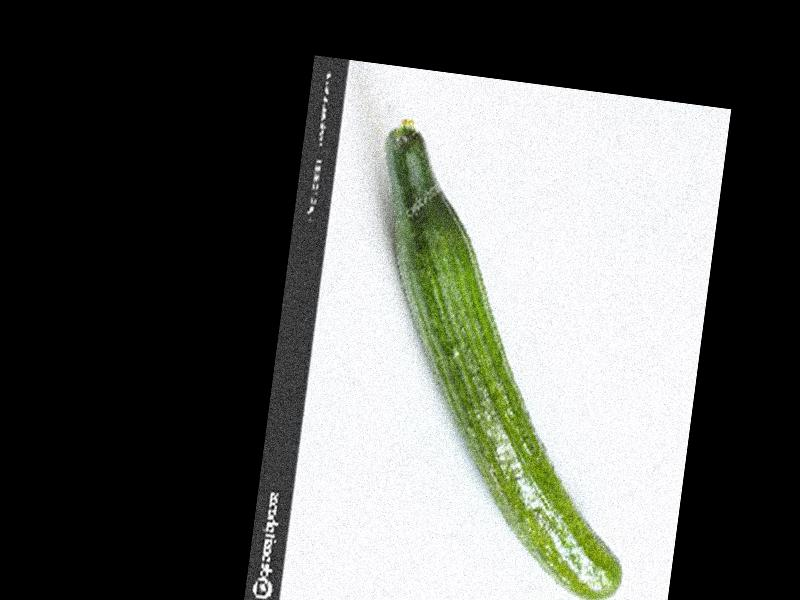Cucumber: (334, 117, 676, 600)
